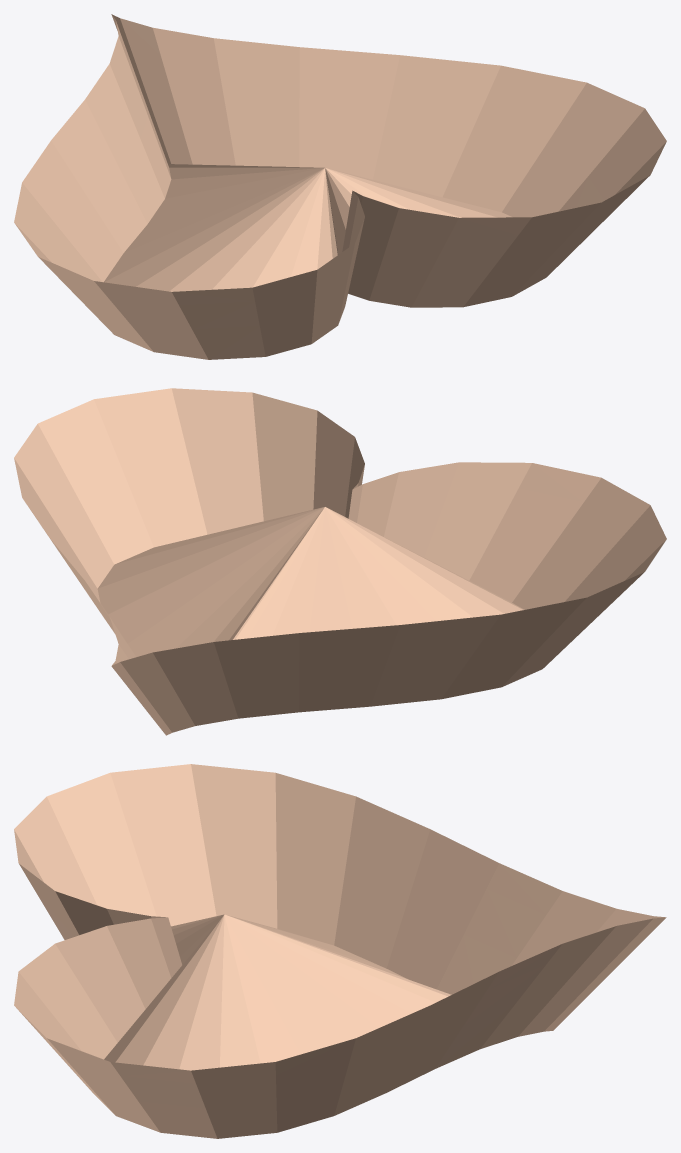
Rendered from heart_hands.obj.
3 renders of one model, top to bottom at view 1: azimuth 30°, elevation 25°; view 2: azimuth 150°, elevation 25°; view 3: azimuth 270°, elevation 25°, orthographic. The views are drawn at different scales.
Visible parts, largest first — view 1: HeartHands; view 2: HeartHands; view 3: HeartHands.
Boxes of the visible parts, bbox=[...] form: HeartHands: bbox=[14, 14, 666, 359]; HeartHands: bbox=[14, 388, 666, 735]; HeartHands: bbox=[14, 764, 666, 1138].
Size of the model in its own units: 2.54 by 0.45 by 2.29.
